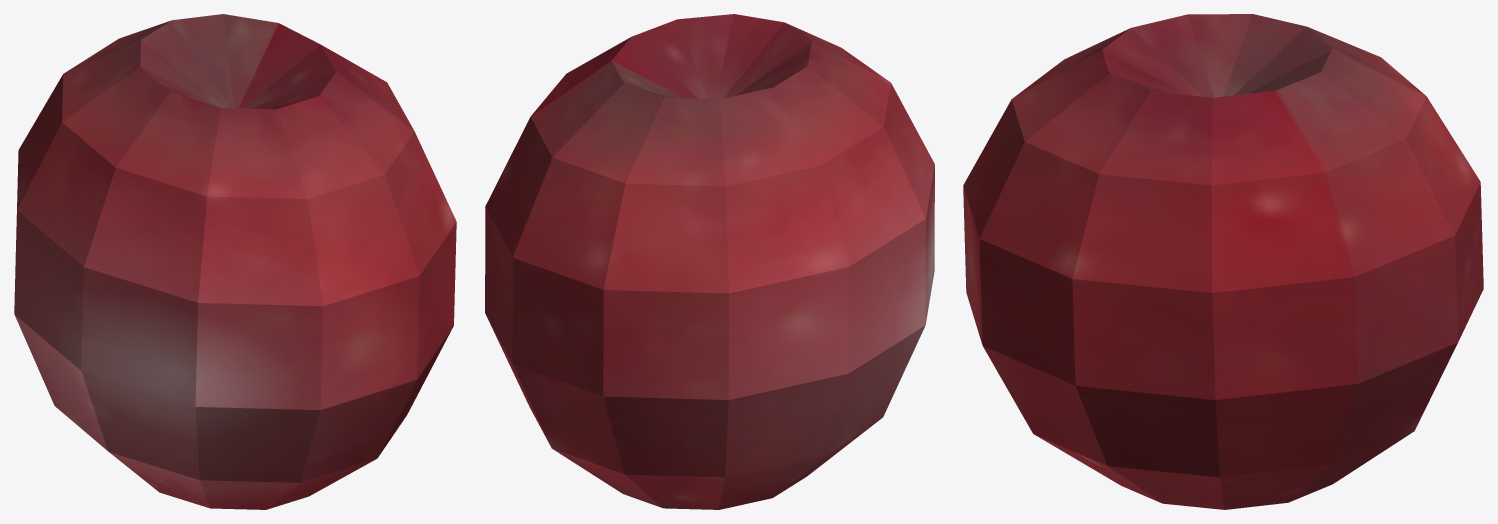
File: apple1.obj
The picture shows the model from 3 angles, left to right: view 1: azimuth 30°, elevation 25°; view 2: azimuth 150°, elevation 25°; view 3: azimuth 270°, elevation 25°; orthographic projection. The views are drawn at different scales.
Visible parts, largest first — view 1: pSphere2; view 2: pSphere2; view 3: pSphere2.
Part boxes in pixels (bbox=[...]): pSphere2: bbox=[14, 14, 456, 509]; pSphere2: bbox=[485, 14, 934, 509]; pSphere2: bbox=[963, 14, 1483, 509].
Size of the model in its own units: 5.32 by 5.95 by 6.36.
Materials: 1 (1 with a texture image).
